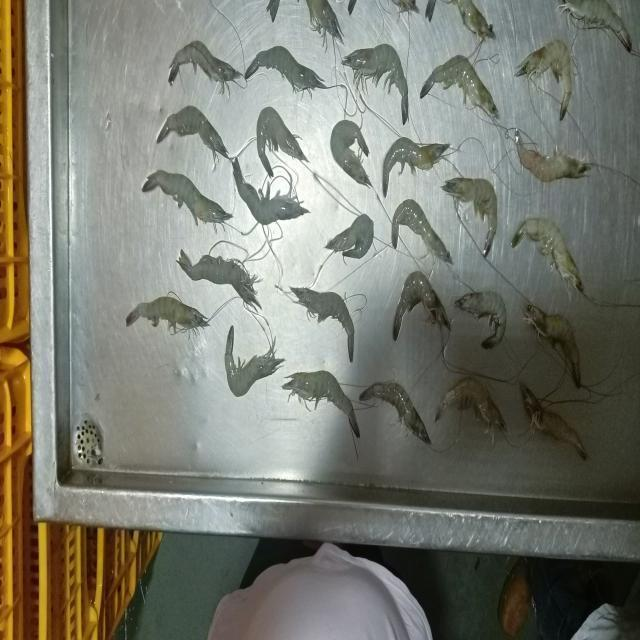shrimp: (513, 217, 584, 291), (282, 371, 359, 438), (177, 248, 261, 309), (342, 44, 407, 122), (232, 157, 308, 223), (288, 287, 355, 360), (420, 56, 499, 116), (142, 170, 231, 223), (524, 303, 580, 386), (523, 386, 586, 459), (359, 382, 431, 444), (245, 46, 329, 98), (516, 40, 571, 119), (156, 106, 229, 165), (442, 177, 496, 255), (225, 325, 283, 396), (514, 129, 591, 181), (383, 137, 450, 195), (559, 1, 633, 53), (168, 41, 240, 94), (393, 271, 449, 339), (392, 199, 451, 263), (436, 377, 504, 430), (256, 107, 307, 177), (126, 296, 207, 332), (454, 291, 506, 347), (331, 119, 371, 187), (325, 214, 374, 258), (445, 1, 493, 43), (304, 1, 343, 42), (348, 1, 355, 13)
